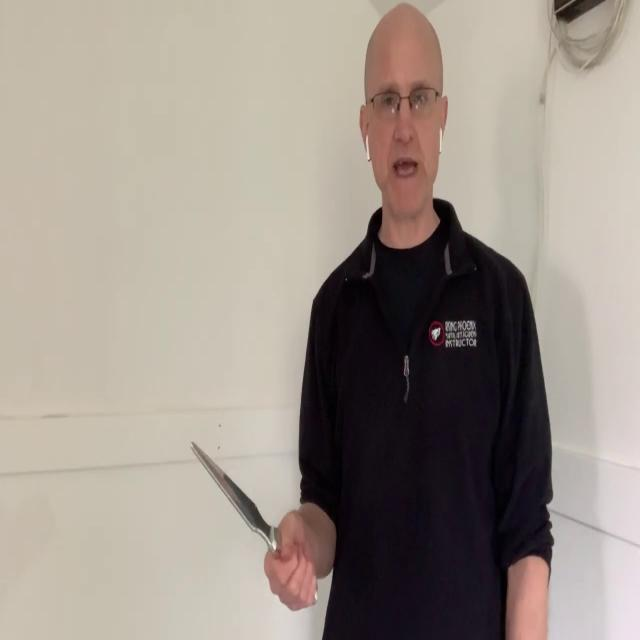Knife_Handle: (191, 440, 318, 611)
